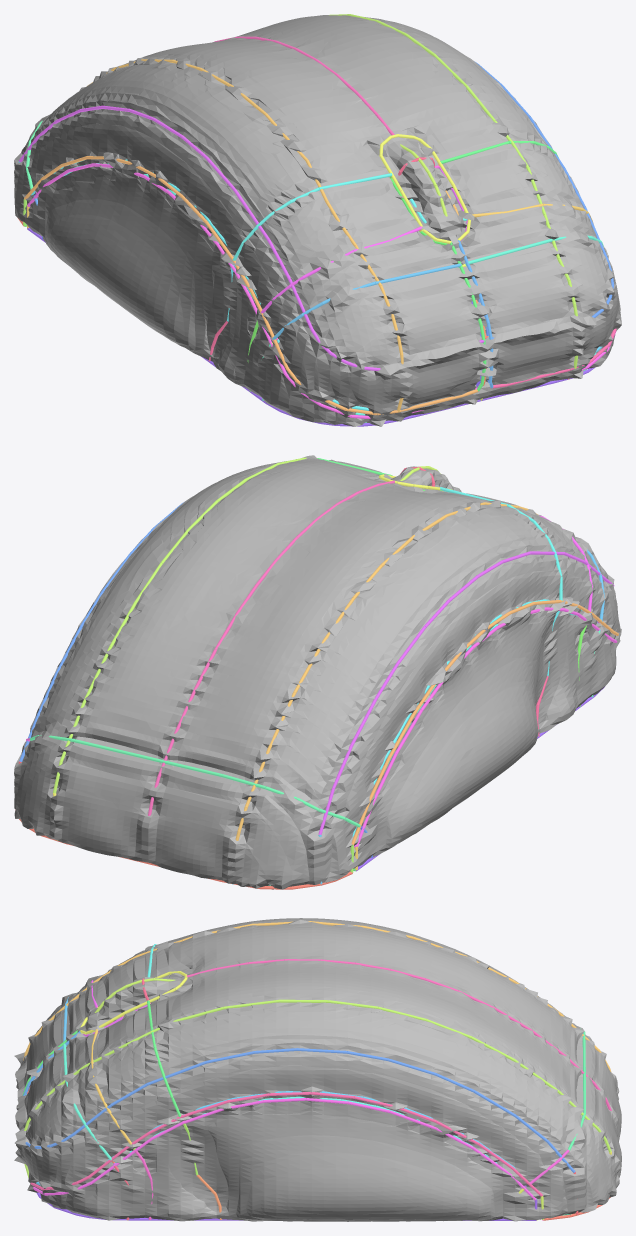
The model's file is flowrep_mouse.gltf.
3 views of the same model, one above another, from view 1: azimuth 30°, elevation 25°; view 2: azimuth 150°, elevation 25°; view 3: azimuth 270°, elevation 25° (orthographic). The views are drawn at different scales.
Size of the model in its own units: 0.5444 by 0.3092 by 0.8574.
